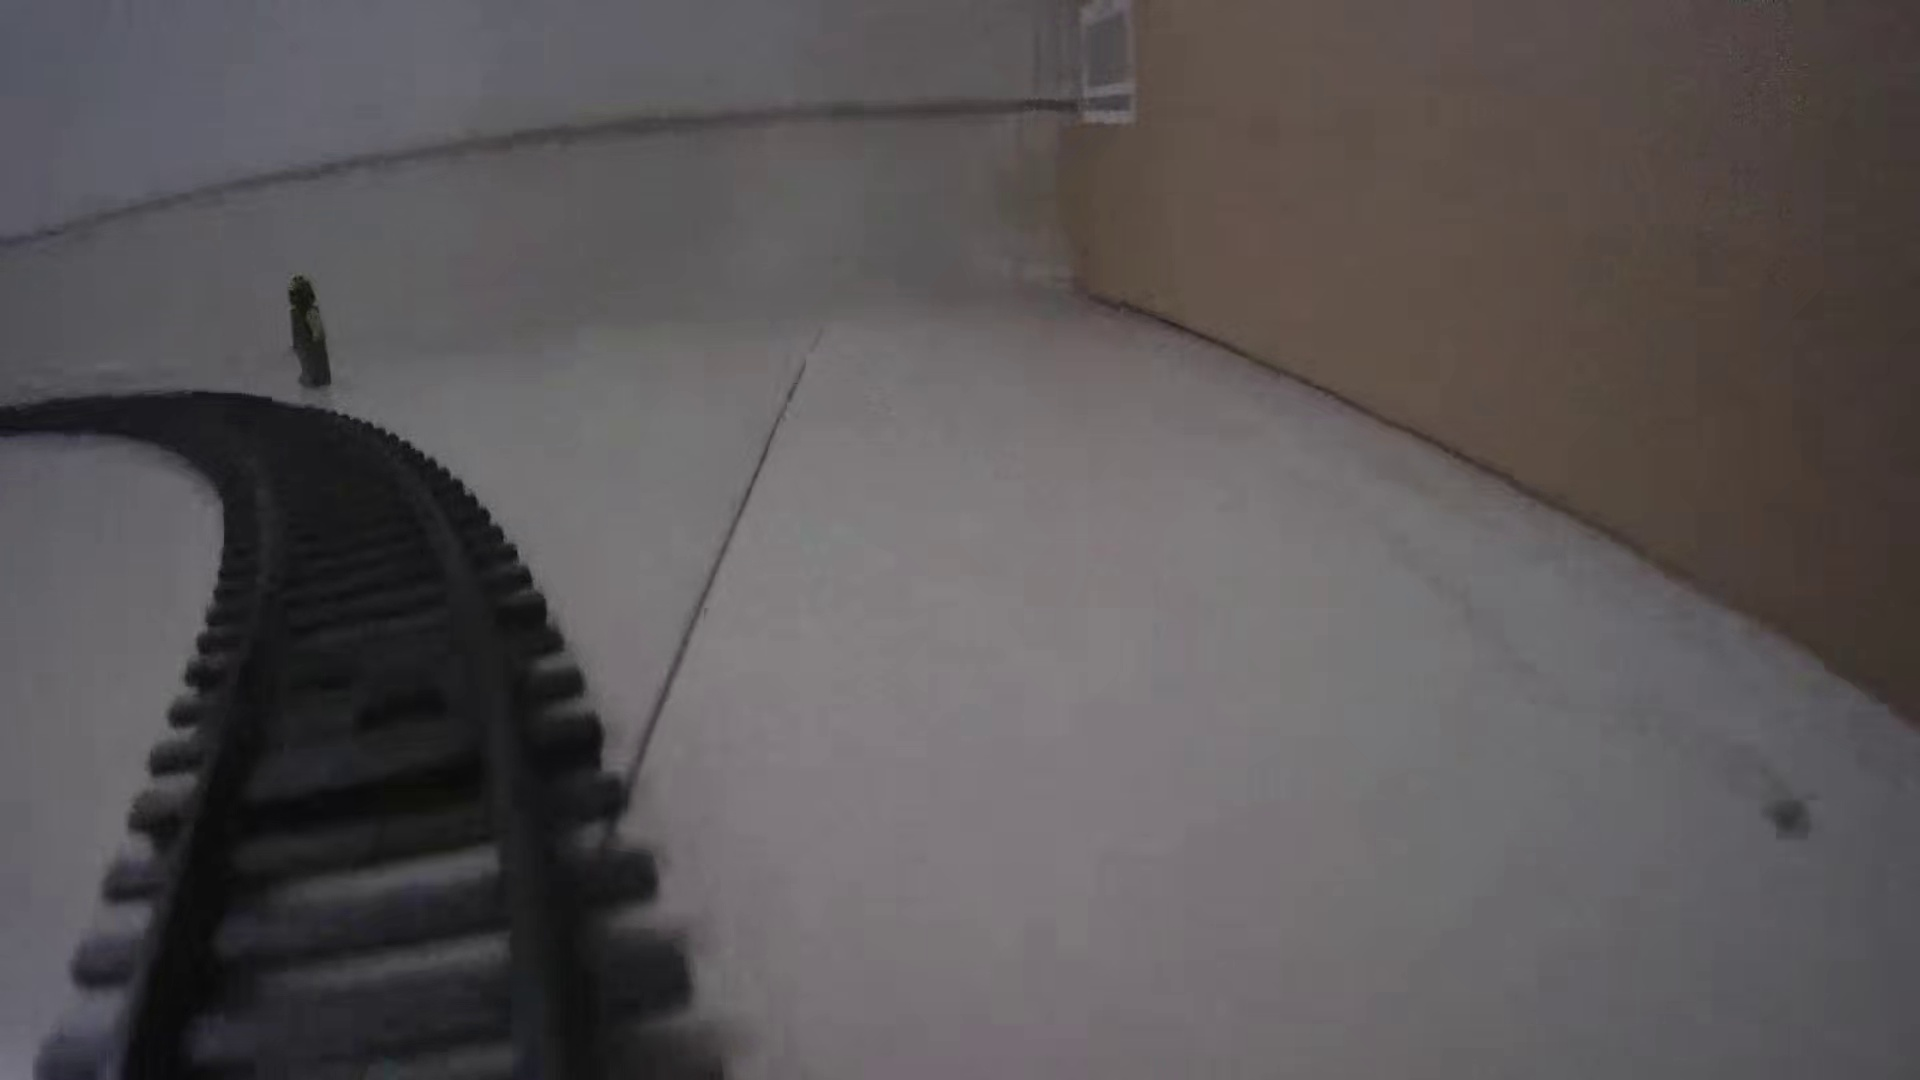people: (282, 271, 335, 397)
